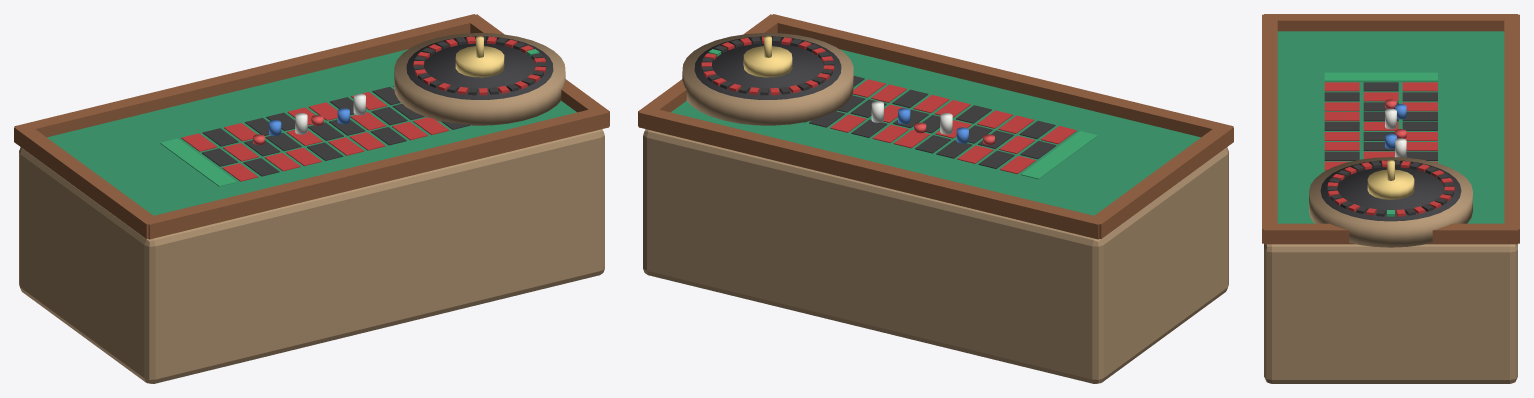
The model's file is roulette_table.glb.
The picture shows the model from 3 angles, left to right: view 1: azimuth 30°, elevation 25°; view 2: azimuth 150°, elevation 25°; view 3: azimuth 270°, elevation 25°; orthographic projection. The views are drawn at different scales.
Visible parts, largest first — view 1: roulette_table; view 2: roulette_table; view 3: roulette_table.
Boxes of the visible parts, x1,y1,x2,y2 form: roulette_table: [14, 14, 609, 383]; roulette_table: [638, 14, 1233, 383]; roulette_table: [1262, 14, 1519, 383].
Bounding box in the file's own units: 2.68 × 1.11 × 1.32.
